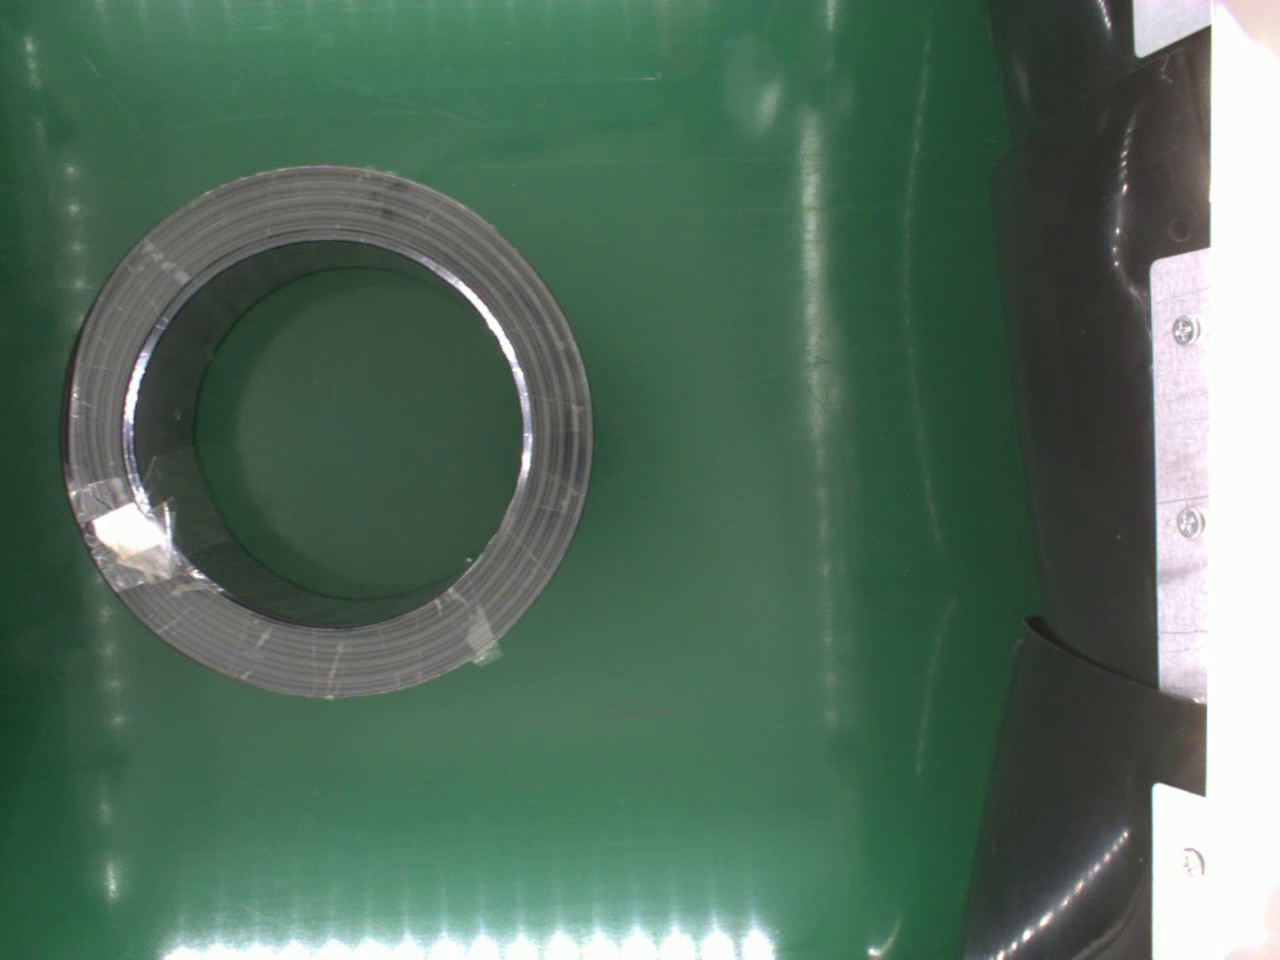black: (56, 158, 603, 710)
